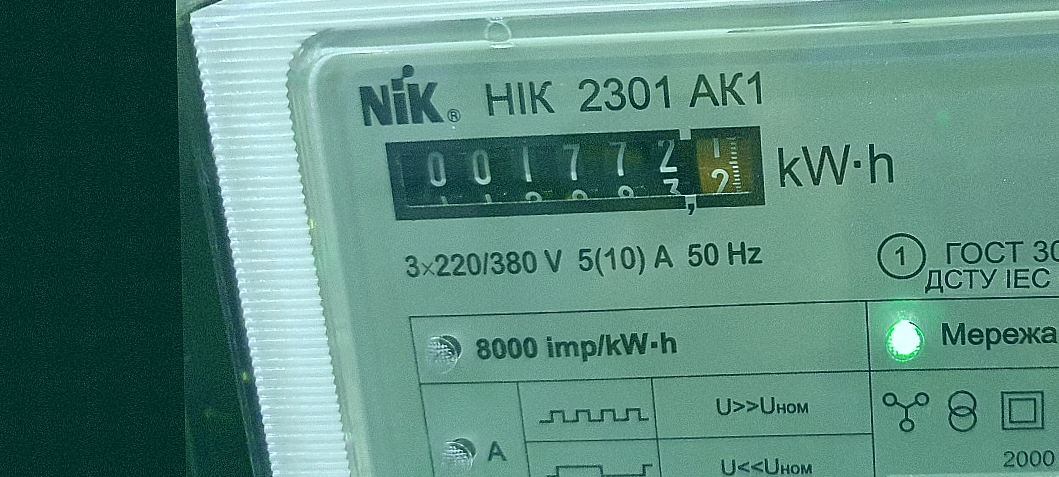0: (421, 146, 449, 187), (469, 145, 492, 185)
1: (517, 143, 534, 182), (709, 135, 722, 160)
2: (655, 137, 678, 174), (706, 165, 730, 194)
3: (660, 175, 682, 196)
7: (560, 140, 583, 182), (606, 138, 628, 177)
screen: (373, 114, 782, 231)
